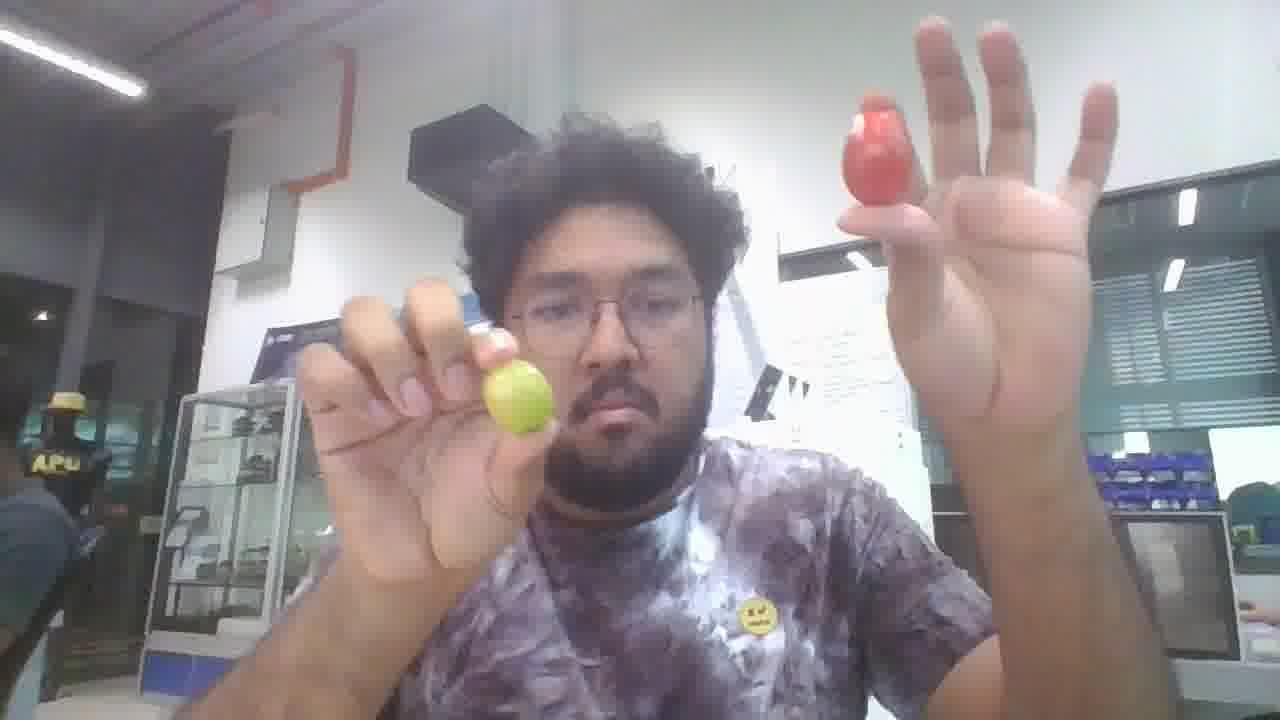green_cherry_tomato: (482, 359, 554, 434)
red_cherry_tomato: (842, 99, 912, 205)
